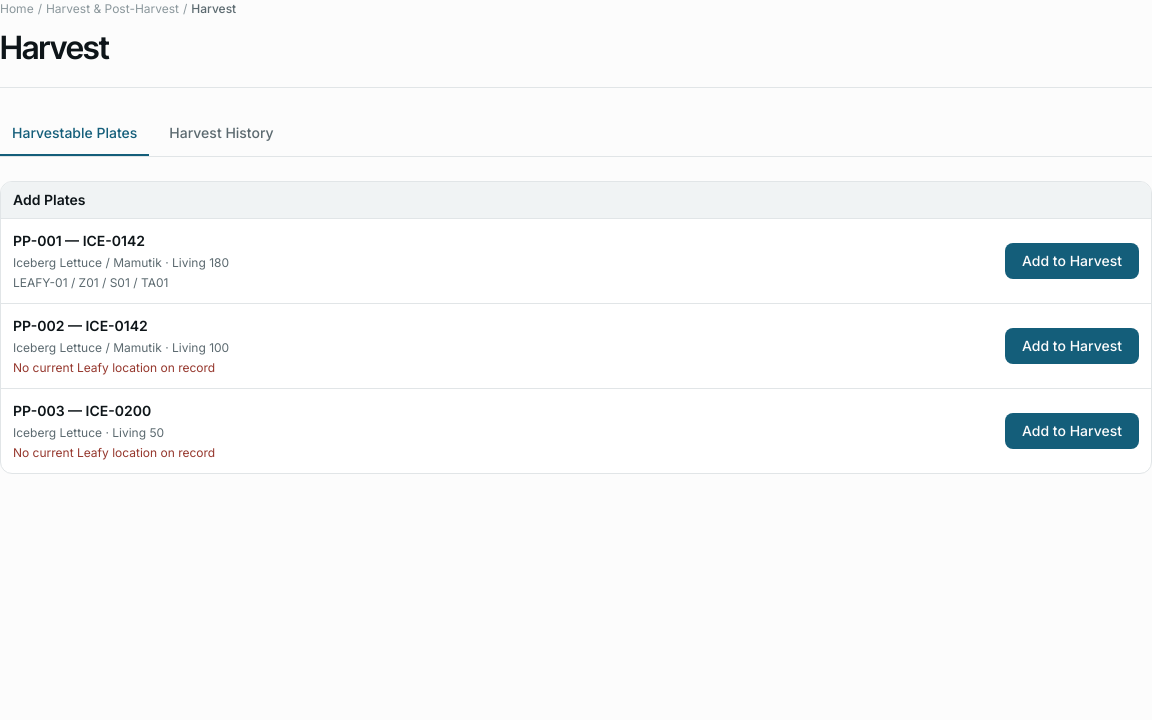
LeafyHarvestPage › locks the Batch after the first Plate and disables an incompatible Plate
Expected: the text "PP-001 — ICE-0142" is shown, [13, 232, 145, 249]
Click the button "Add to Harvest" in the row of "PP-001".
click(1072, 261)  # box [1005, 243, 1139, 279]
(page scrolled)
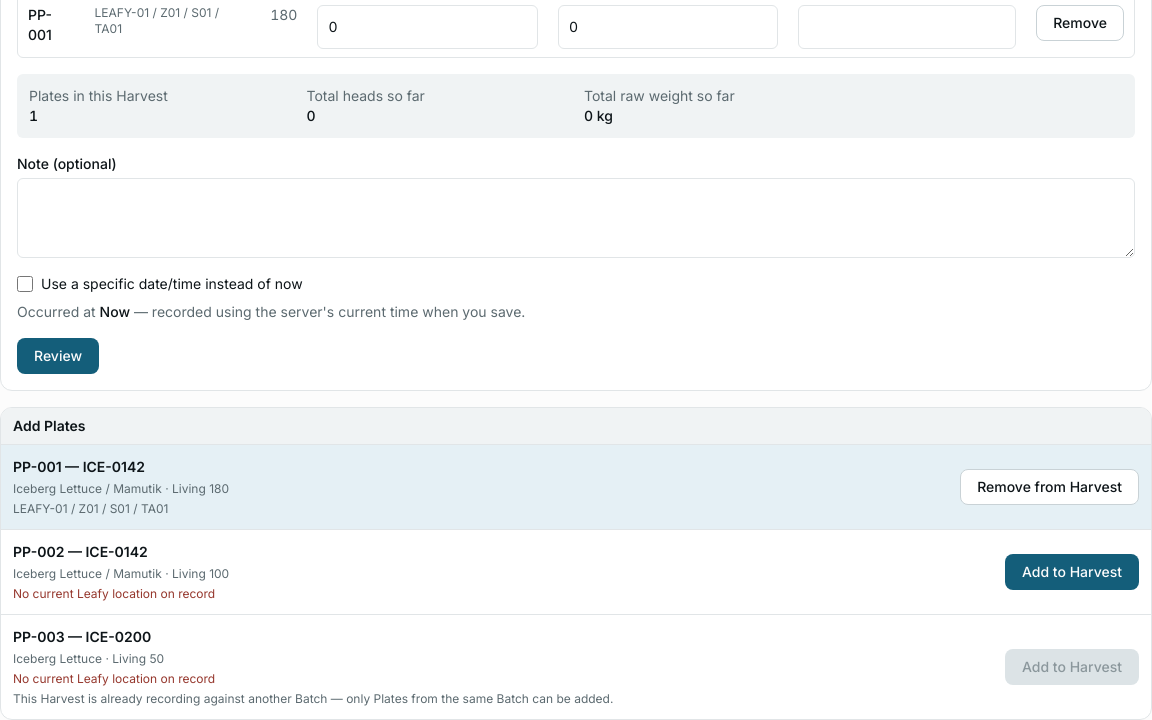
Expected: the list item "PP-003 — ICE-0200" is shown, [1, 615, 1151, 719]
Result: the button "Remove from Harvest" is shown at [960, 469, 1139, 505]
